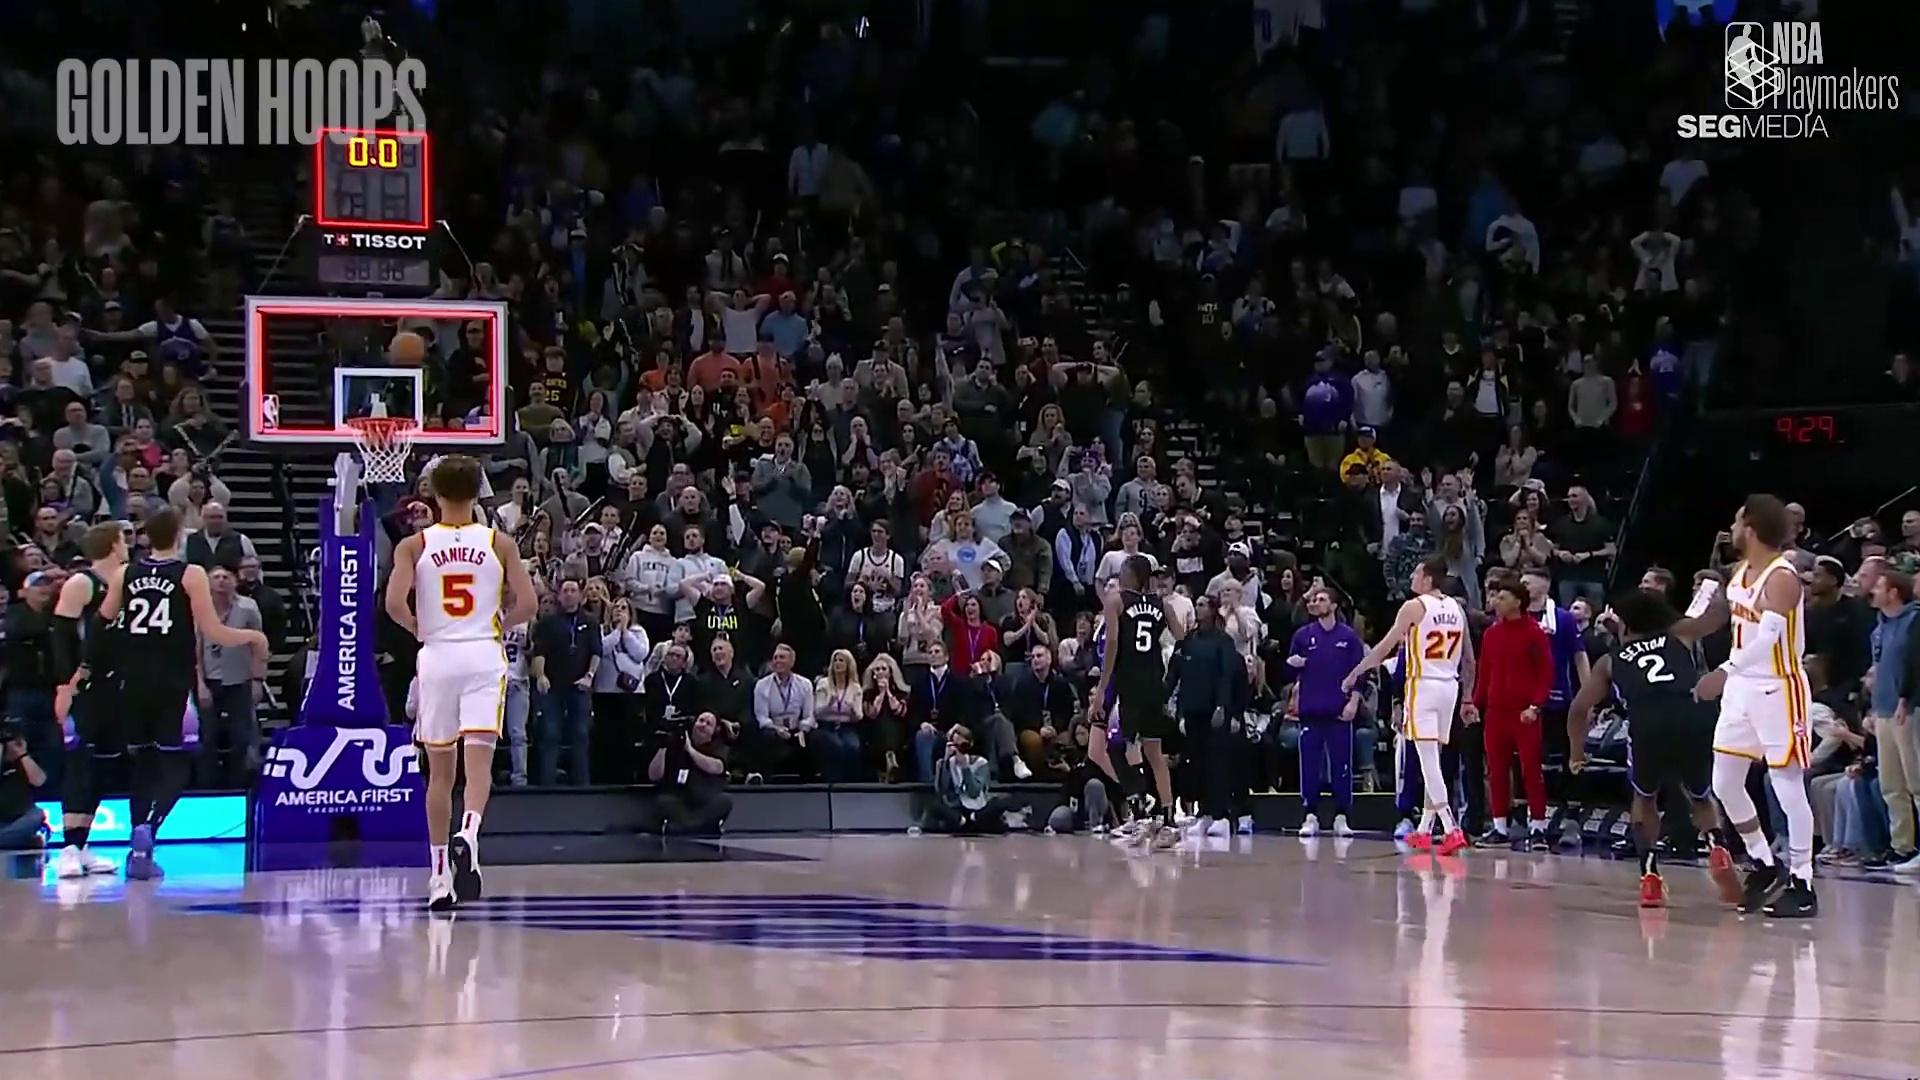ball: (388, 331, 427, 375)
hoop: (345, 409, 413, 487)
